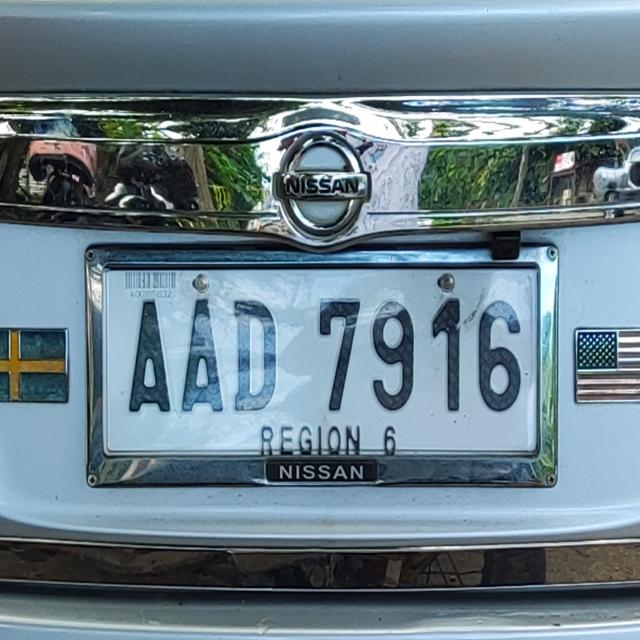plate: (83, 241, 561, 491)
